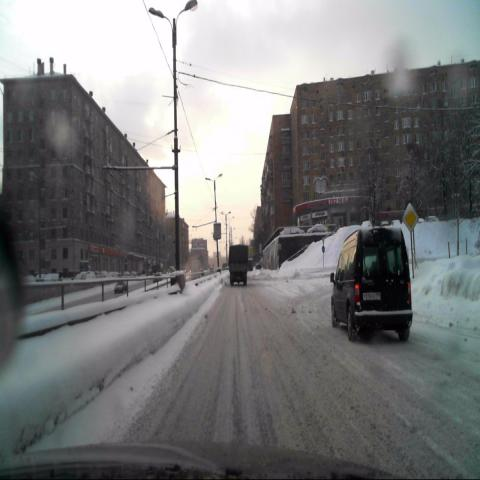2_1: (400, 200, 419, 233)
